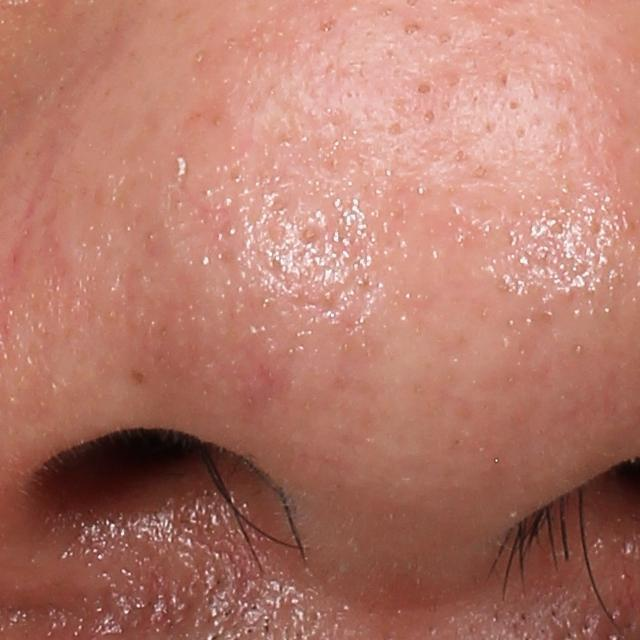comedo: (415, 78, 436, 99), (402, 20, 420, 36), (317, 19, 333, 35)
